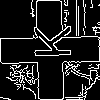K: (25, 25, 71, 59)
